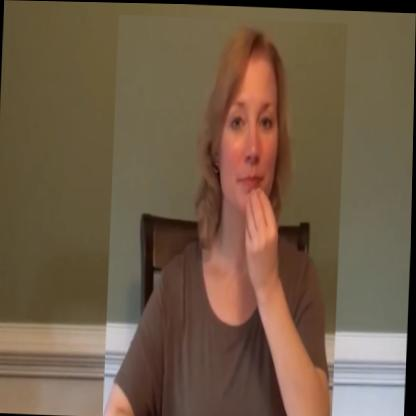Food: (104, 13, 347, 416)
